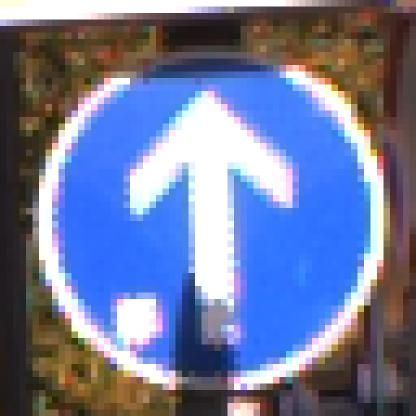AheadOnly: (34, 40, 378, 384)
